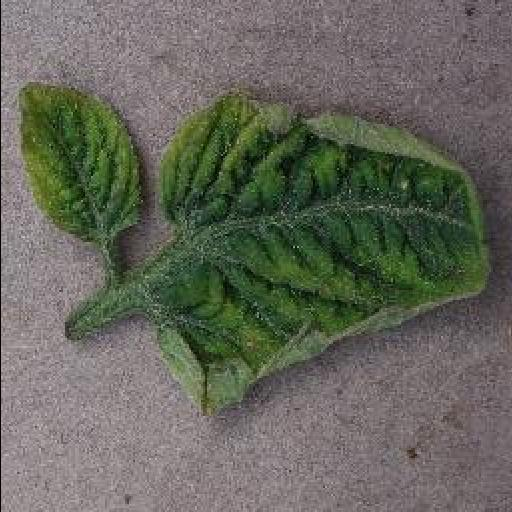disease_tomato: (152, 88, 494, 414), (18, 82, 144, 242)
